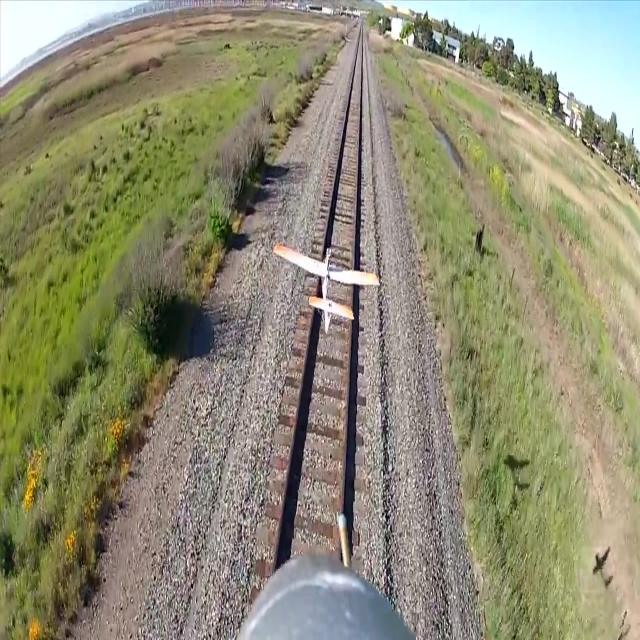iha: (299, 274, 342, 303)
